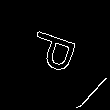P_E: (25, 29, 85, 81)
